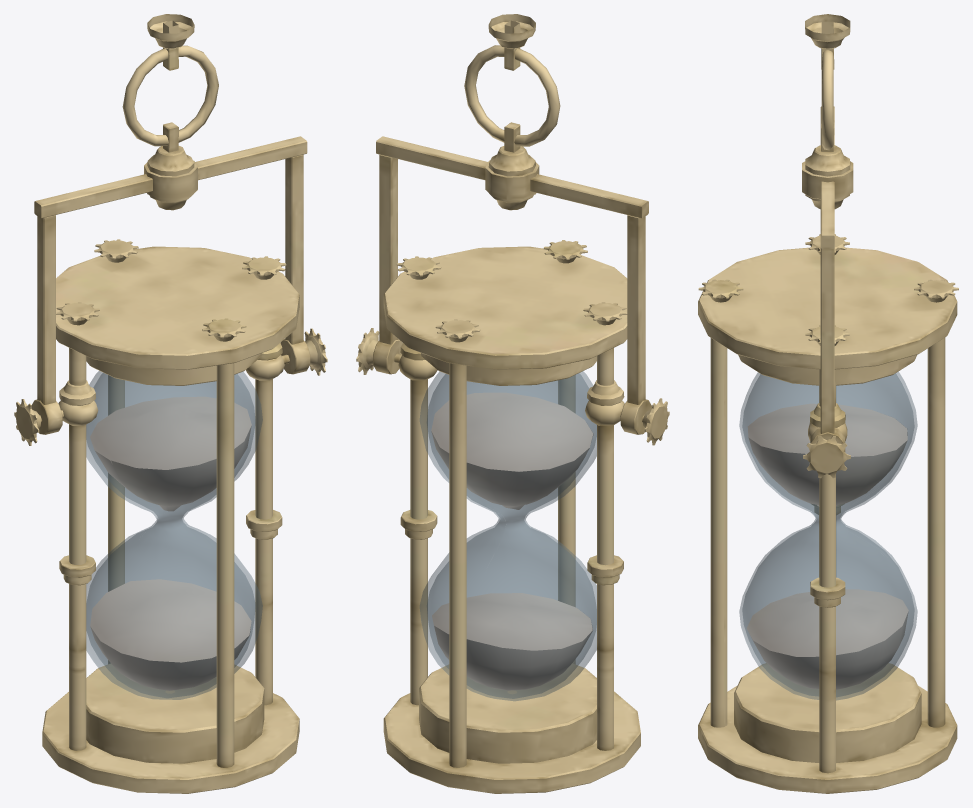
The model's file is obj_hourglass_2.glb.
The picture shows the model from 3 angles, left to right: view 1: azimuth 30°, elevation 25°; view 2: azimuth 150°, elevation 25°; view 3: azimuth 270°, elevation 25°; orthographic projection.
Visible parts, largest first — view 1: Hourgalss_metal_0; view 2: Hourgalss_metal_0; view 3: Hourgalss_metal_0.
Part boxes in pixels (x1,y1,x2,y2): Hourgalss_metal_0: (14, 14, 327, 793); Hourgalss_metal_0: (356, 14, 669, 793); Hourgalss_metal_0: (698, 14, 958, 793).
Size of the model in its own units: 0.1113 by 0.26 by 0.0859.
Materials: 3 (2 with a texture image).
